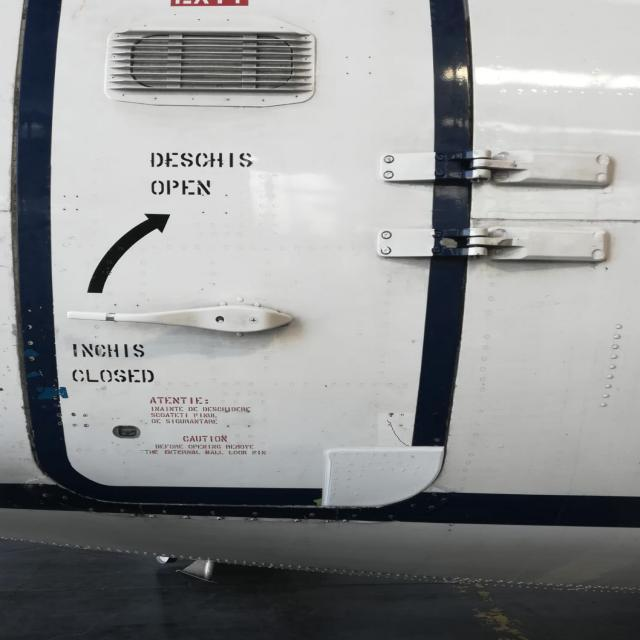crack: (379, 414, 415, 447)
